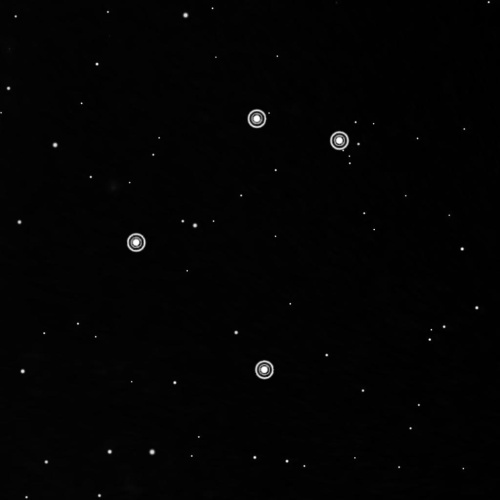coma_berenices: (119, 100, 362, 385)
